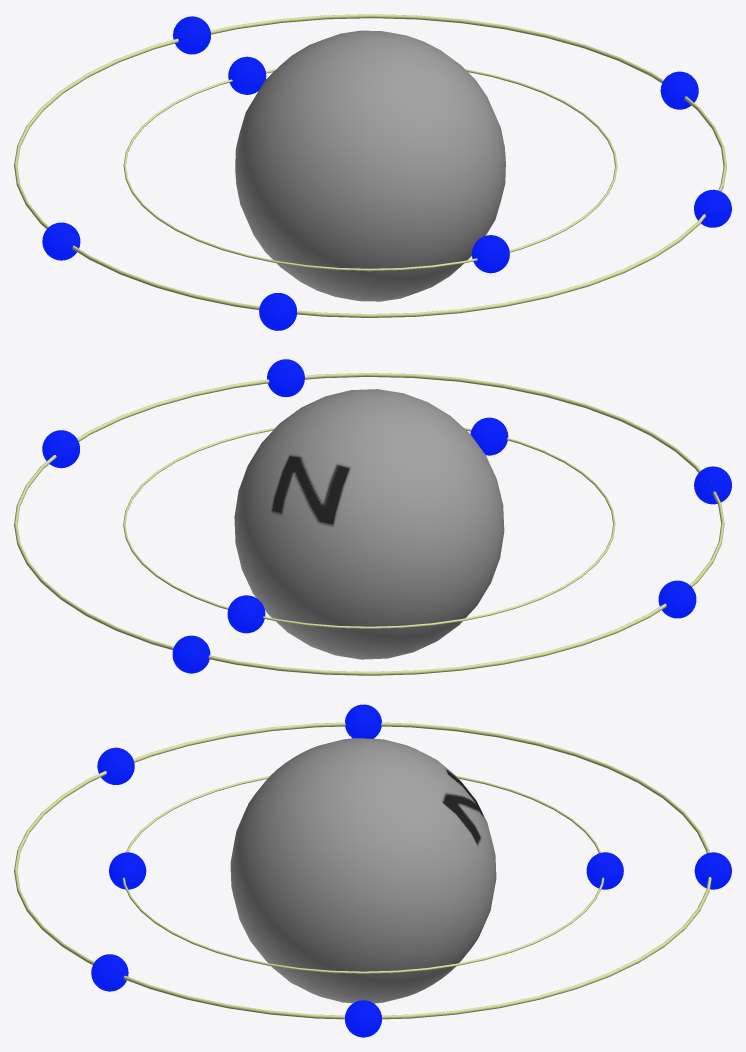
3 views of the same model, one above another, from view 1: azimuth 30°, elevation 25°; view 2: azimuth 150°, elevation 25°; view 3: azimuth 270°, elevation 25° (orthographic). The views are drawn at different scales.
Visible parts, largest first — view 1: 球体, 贝塞尔圆环.001, 贝塞尔圆环, 球体.008, 球体.006, 球体.004, 球体.007, 球体.001, 球体.011, 球体.010; view 2: 球体, 贝塞尔圆环.001, 贝塞尔圆环, 球体.001, 球体.007, 球体.010, 球体.006, 球体.008, 球体.011, 球体.004; view 3: 球体, 贝塞尔圆环.001, 贝塞尔圆环, 球体.011, 球体.010, 球体.004, 球体.001, 球体.008, 球体.007, 球体.006.
Boxes of the visible parts, x1,y1,x2,y2 form: 球体: (235,30,505,301); 贝塞尔圆环.001: (14,14,726,317); 贝塞尔圆环: (123,69,617,271); 球体.008: (259,293,296,330); 球体.006: (42,222,80,260); 球体.004: (472,235,509,273); 球体.007: (173,16,210,54); 球体.001: (228,56,266,94); 球体.011: (660,71,698,109); 球体.010: (694,189,731,227); 球体: (234,389,504,659); 贝塞尔圆环.001: (14,373,724,675); 贝塞尔圆环: (123,427,615,628); 球体.001: (227,595,265,633); 球体.007: (172,635,210,673); 球体.010: (267,359,304,397); 球体.006: (658,580,696,618); 球体.008: (694,466,731,504); 球体.011: (42,430,79,468); 球体.004: (470,417,508,455); 球体: (230,738,496,1003); 贝塞尔圆环.001: (14,722,711,1019); 贝塞尔圆环: (122,776,604,973); 球体.011: (345,1000,381,1037); 球体.010: (91,954,128,991); 球体.004: (109,852,146,889); 球体.001: (586,852,623,889); 球体.008: (97,747,134,784); 球体.007: (694,852,731,889); 球体.006: (345,704,381,738).
Size of the model in its own units: 1.85 by 0.669 by 1.81.
3 materials, 1 textured.
